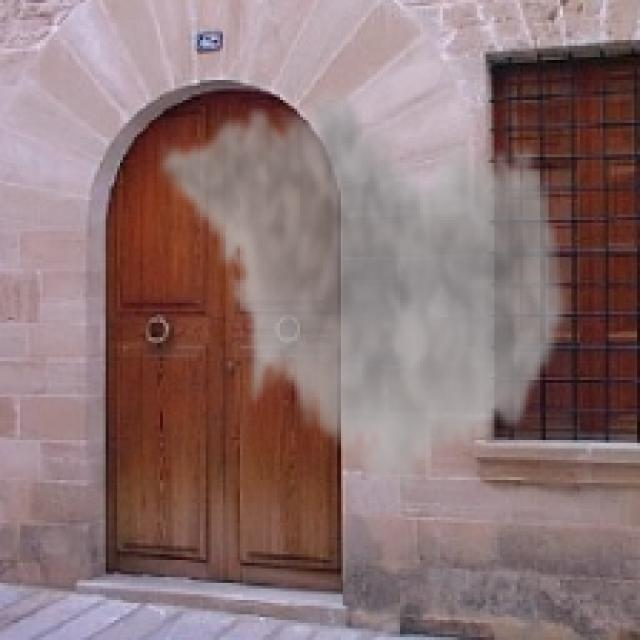smoke: (154, 77, 572, 500)
